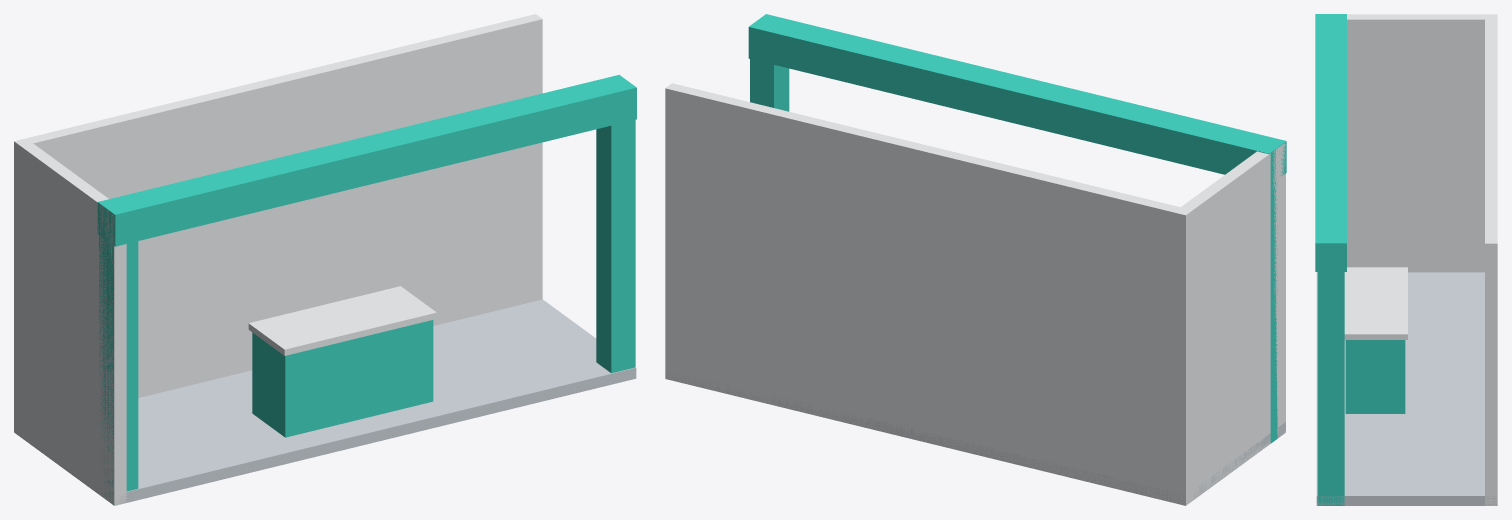
3 renders of one model, left to right at view 1: azimuth 30°, elevation 25°; view 2: azimuth 150°, elevation 25°; view 3: azimuth 270°, elevation 25°, orthographic. The views are drawn at different scales.
Parts seen in each view (by area): view 1: Exhibition Booth Concept; view 2: Exhibition Booth Concept; view 3: Exhibition Booth Concept.
Boxes of the visible parts, bbox=[...] form: Exhibition Booth Concept: bbox=[14, 14, 636, 505]; Exhibition Booth Concept: bbox=[665, 14, 1286, 505]; Exhibition Booth Concept: bbox=[1315, 14, 1497, 505].
Size of the model in its own units: 6 by 3.2 by 2.01.
